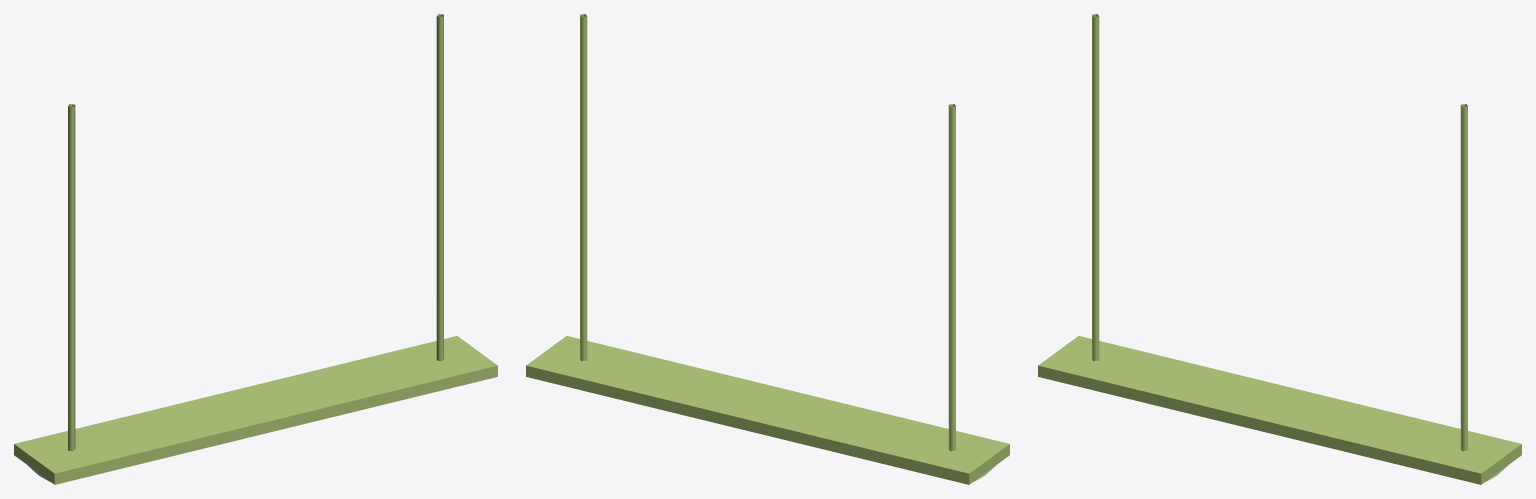
File: mesh_police_light.fbx
The picture shows the model from 3 angles, left to right: view 1: azimuth 30°, elevation 25°; view 2: azimuth 150°, elevation 25°; view 3: azimuth 330°, elevation 25°; orthographic projection.
Parts seen in each view (by area): view 1: Police_Light; view 2: Police_Light; view 3: Police_Light.
Boxes of the visible parts, x1,y1,x2,y2 form: Police_Light: [14, 14, 497, 484]; Police_Light: [526, 14, 1009, 484]; Police_Light: [1038, 14, 1521, 484].
Size of the model in its own units: 204 by 160 by 32.47.
